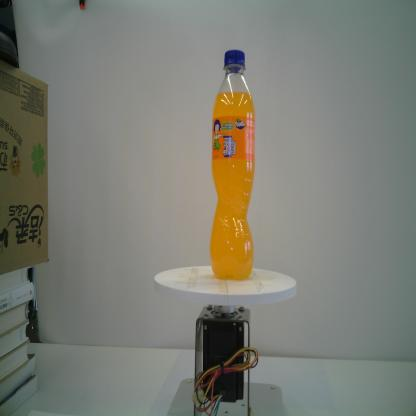Drink: (209, 49, 257, 283)
